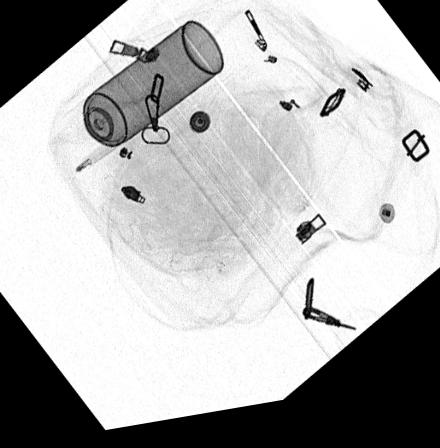Sprayer: (59, 26, 224, 170)
